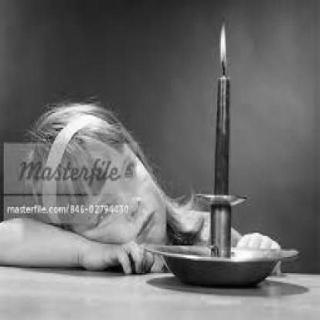Fire: (214, 22, 231, 76)
